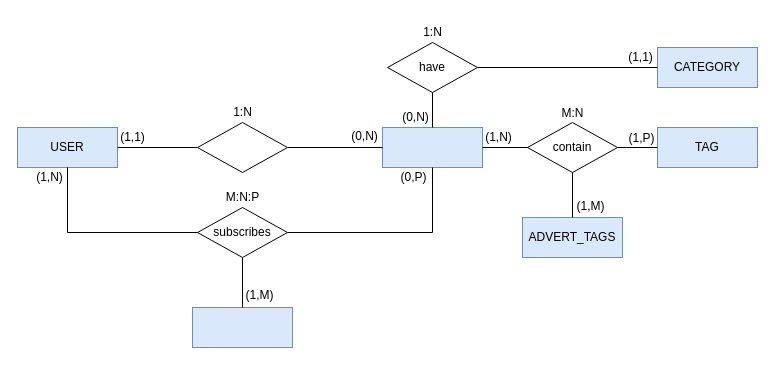
Some shapes in this 775 by 365 pixel diagram are drawn without their labels. Here are the shapes that lost their labels. From the top down, the box of each, then its label:
(196, 122, 288, 172): publish
(382, 126, 482, 168): ADVERT
(192, 306, 292, 348): BOOKING
